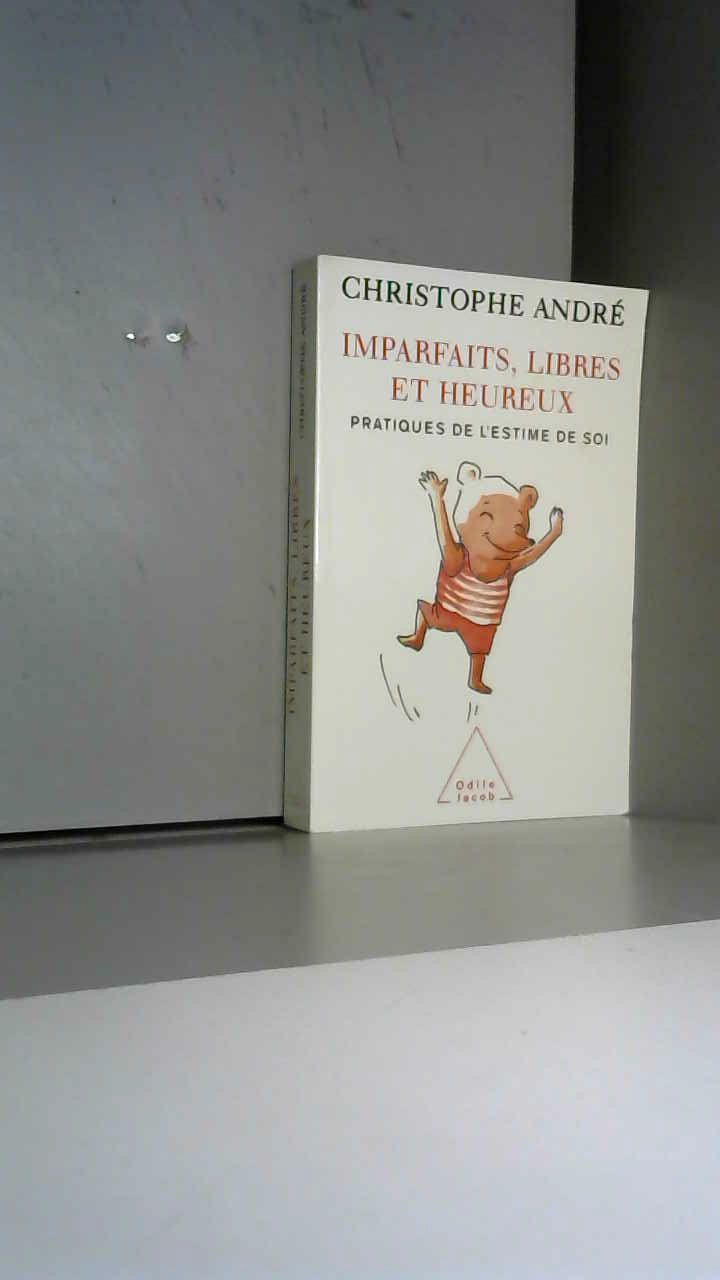book: (290, 230, 720, 908)
